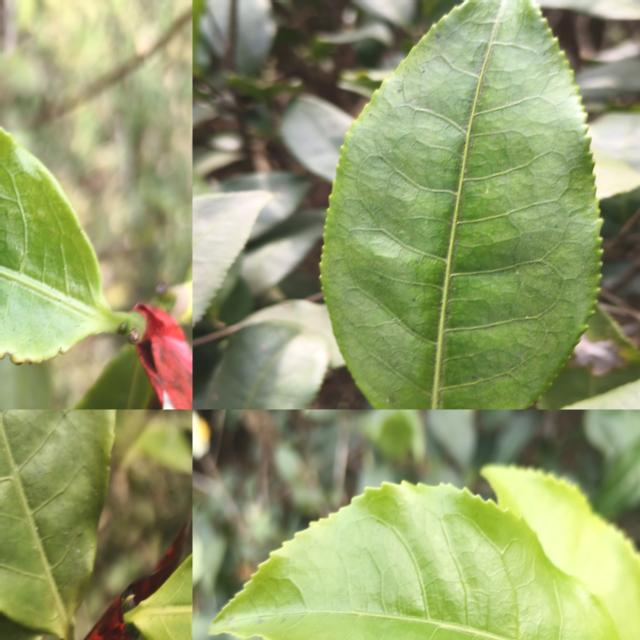Leaf: (321, 0, 601, 409), (210, 482, 620, 640), (0, 127, 141, 363), (480, 463, 640, 640), (0, 409, 115, 638), (203, 321, 329, 409), (538, 305, 640, 409), (192, 191, 269, 326), (241, 209, 326, 296), (280, 94, 353, 189), (218, 170, 312, 240), (588, 111, 640, 224), (593, 439, 640, 517), (131, 420, 192, 473), (427, 409, 476, 465), (575, 57, 640, 99), (0, 358, 51, 409), (536, 0, 640, 20), (192, 342, 220, 409), (351, 0, 415, 26)
